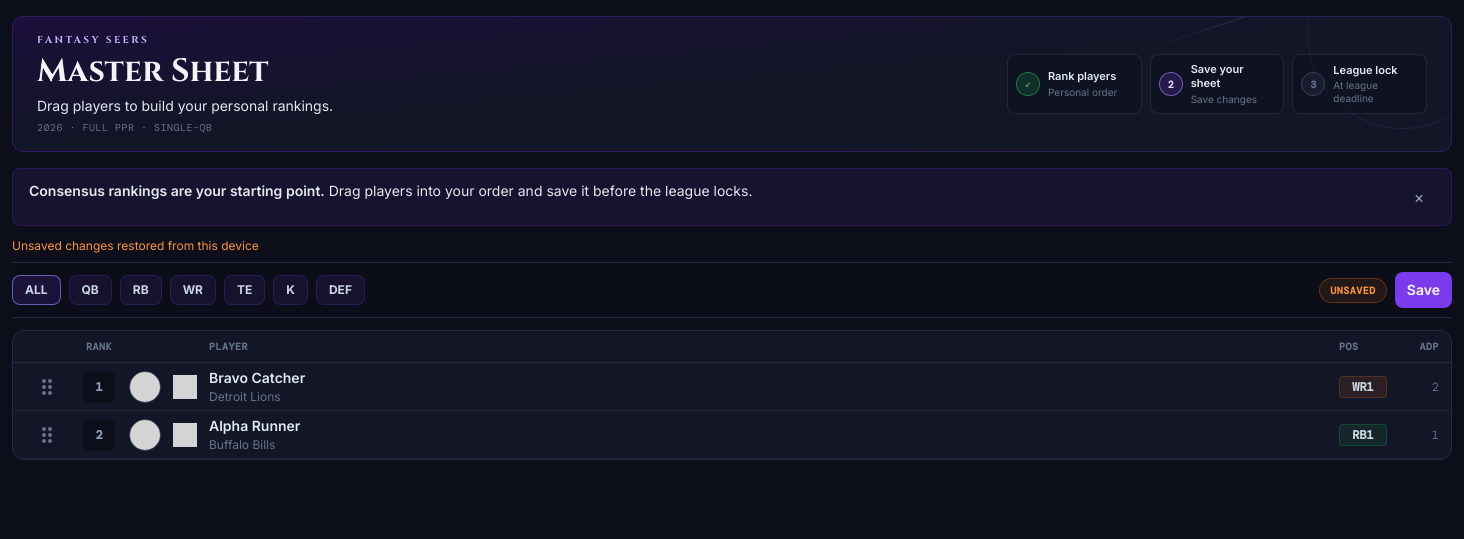
Test: MasterSheetPage › preserves the draft and reports a rejected save
Click the button with aria-label "Save Rankings" at (1423, 290), box x1=1395 y1=272 x2=1452 y2=308
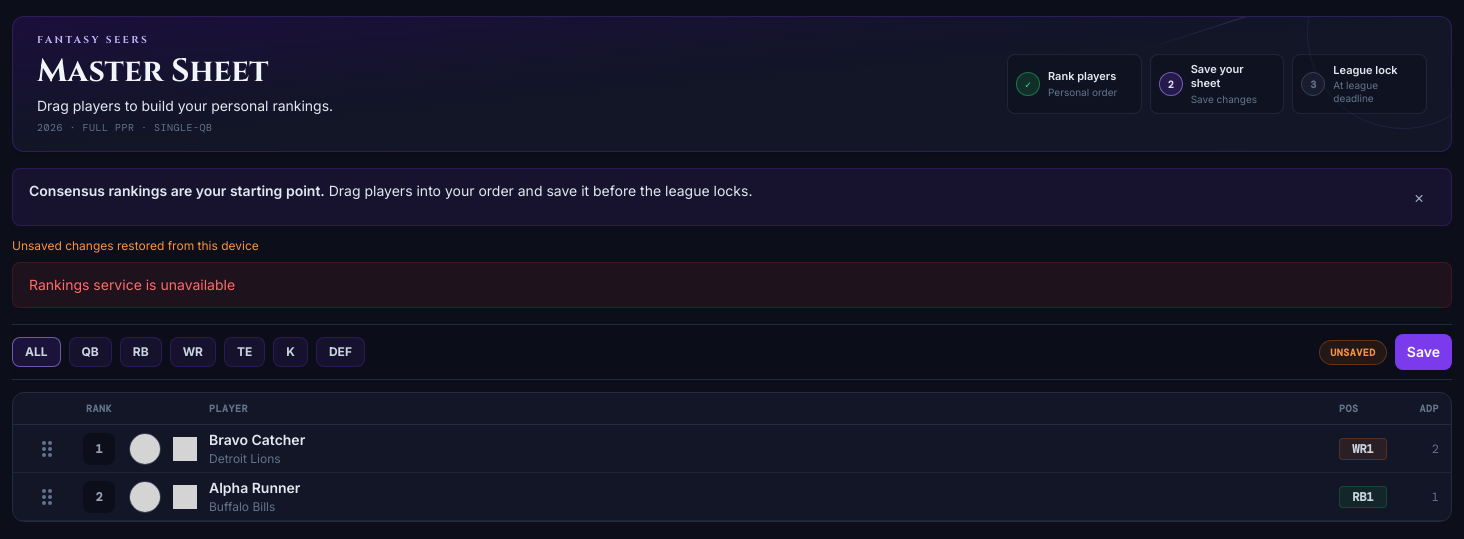
Expected: the button with aria-label "Save Rankings" is enabled, x1=1395 y1=334 x2=1452 y2=370
Now the text "Rankings service is unavailable" is shown, box x1=29 y1=276 x2=235 y2=293
